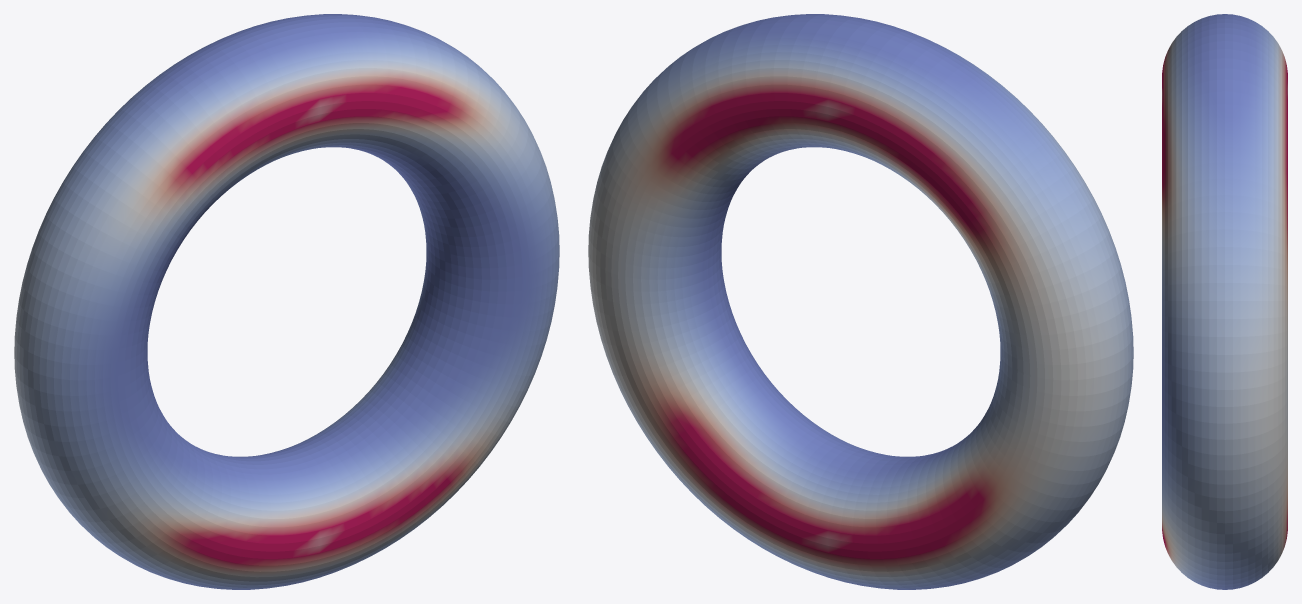
3 views of the same model, side by side, from view 1: azimuth 30°, elevation 25°; view 2: azimuth 150°, elevation 25°; view 3: azimuth 270°, elevation 25° (orthographic). The views are drawn at different scales.
Visible parts, largest first — view 1: world; view 2: world; view 3: world.
Boxes of the visible parts, bbox=[...] form: world: bbox=[14, 14, 559, 589]; world: bbox=[588, 14, 1133, 589]; world: bbox=[1162, 14, 1287, 589].
Size of the model in its own units: 21.33 by 21.33 by 4.66.
